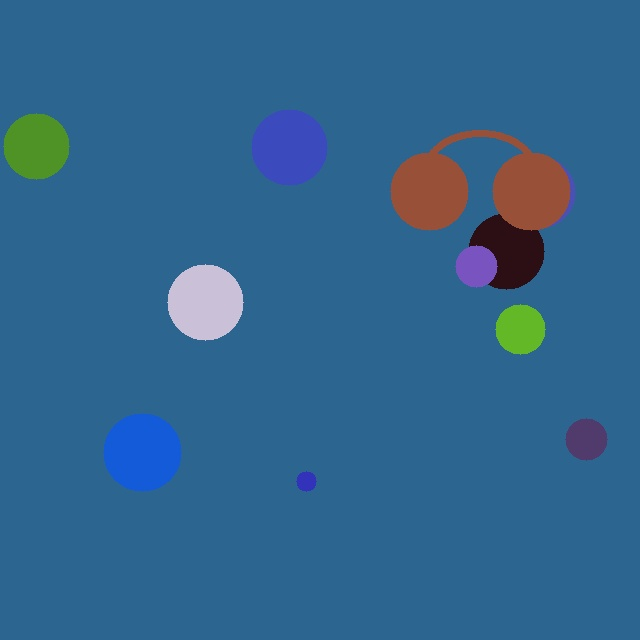over_ear: (386, 119, 574, 234)
